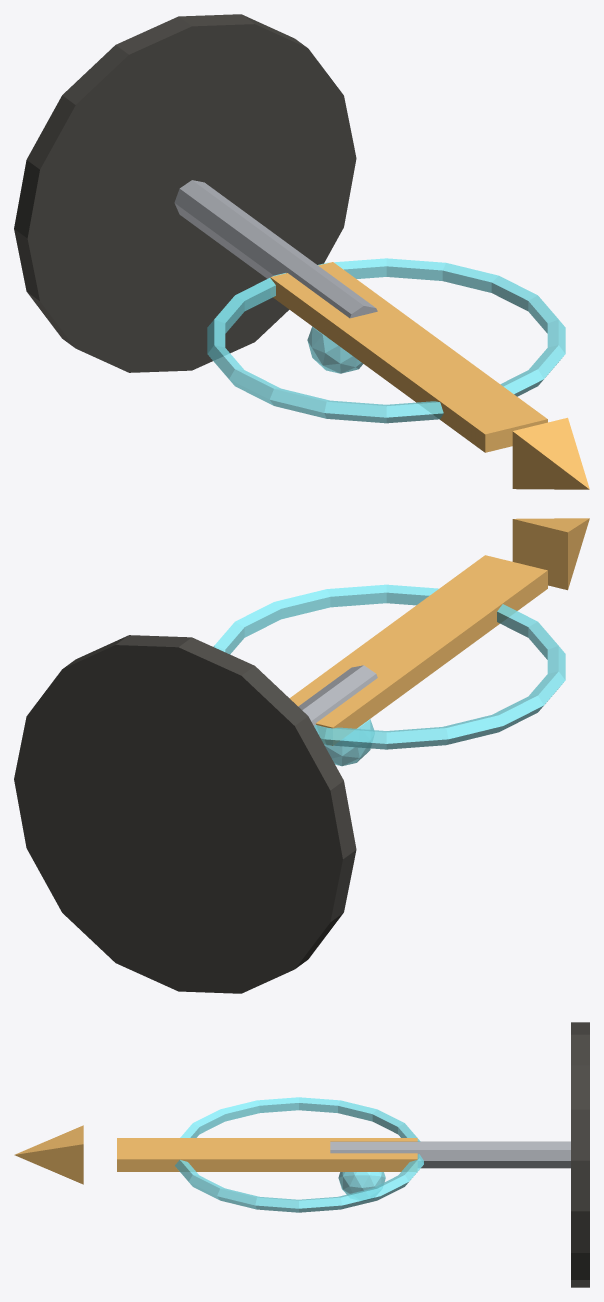
Rendered from 04_high_tier_magic_weapon_aura.glb.
3 renders of one model, top to bottom at view 1: azimuth 30°, elevation 25°; view 2: azimuth 150°, elevation 25°; view 3: azimuth 270°, elevation 25°, orthographic. The views are drawn at different scales.
Parts seen in each view (by area): view 1: weapon_display_base, magic_blade_core, weapon_enchant_orbit, weapon_grip, magic_blade_tip, weapon_gem; view 2: weapon_display_base, magic_blade_core, weapon_enchant_orbit, magic_blade_tip, weapon_grip, weapon_gem; view 3: magic_blade_core, weapon_enchant_orbit, weapon_grip, weapon_display_base, magic_blade_tip, weapon_gem.
Boxes of the visible parts, left/top/right/bottom form: weapon_display_base: left=14, top=14, right=356, bottom=372; magic_blade_core: left=270, top=262, right=547, bottom=452; weapon_enchant_orbit: left=207, top=258, right=565, bottom=423; weapon_grip: left=174, top=180, right=377, bottom=318; magic_blade_tip: left=512, top=417, right=589, bottom=489; weapon_gem: left=307, top=326, right=363, bottom=373; weapon_display_base: left=14, top=635, right=356, bottom=993; magic_blade_core: left=289, top=555, right=547, bottom=745; weapon_enchant_orbit: left=213, top=584, right=565, bottom=749; magic_blade_tip: left=512, top=518, right=589, bottom=590; weapon_grip: left=298, top=665, right=377, bottom=733; weapon_gem: left=324, top=719, right=373, bottom=766; magic_blade_core: left=117, top=1138, right=417, bottom=1171; weapon_enchant_orbit: left=175, top=1097, right=423, bottom=1212; weapon_grip: left=330, top=1141, right=570, bottom=1168; weapon_display_base: left=571, top=1022, right=589, bottom=1287; magic_blade_tip: left=14, top=1125, right=83, bottom=1184; weapon_gem: left=338, top=1172, right=385, bottom=1194.
Bounding box in the file's own units: 0.84 × 0.84 × 1.82.
